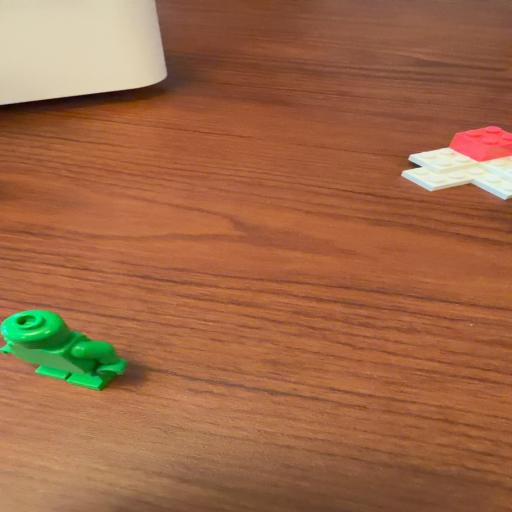UnoQ-minifig-detector: (0, 306, 139, 396)
